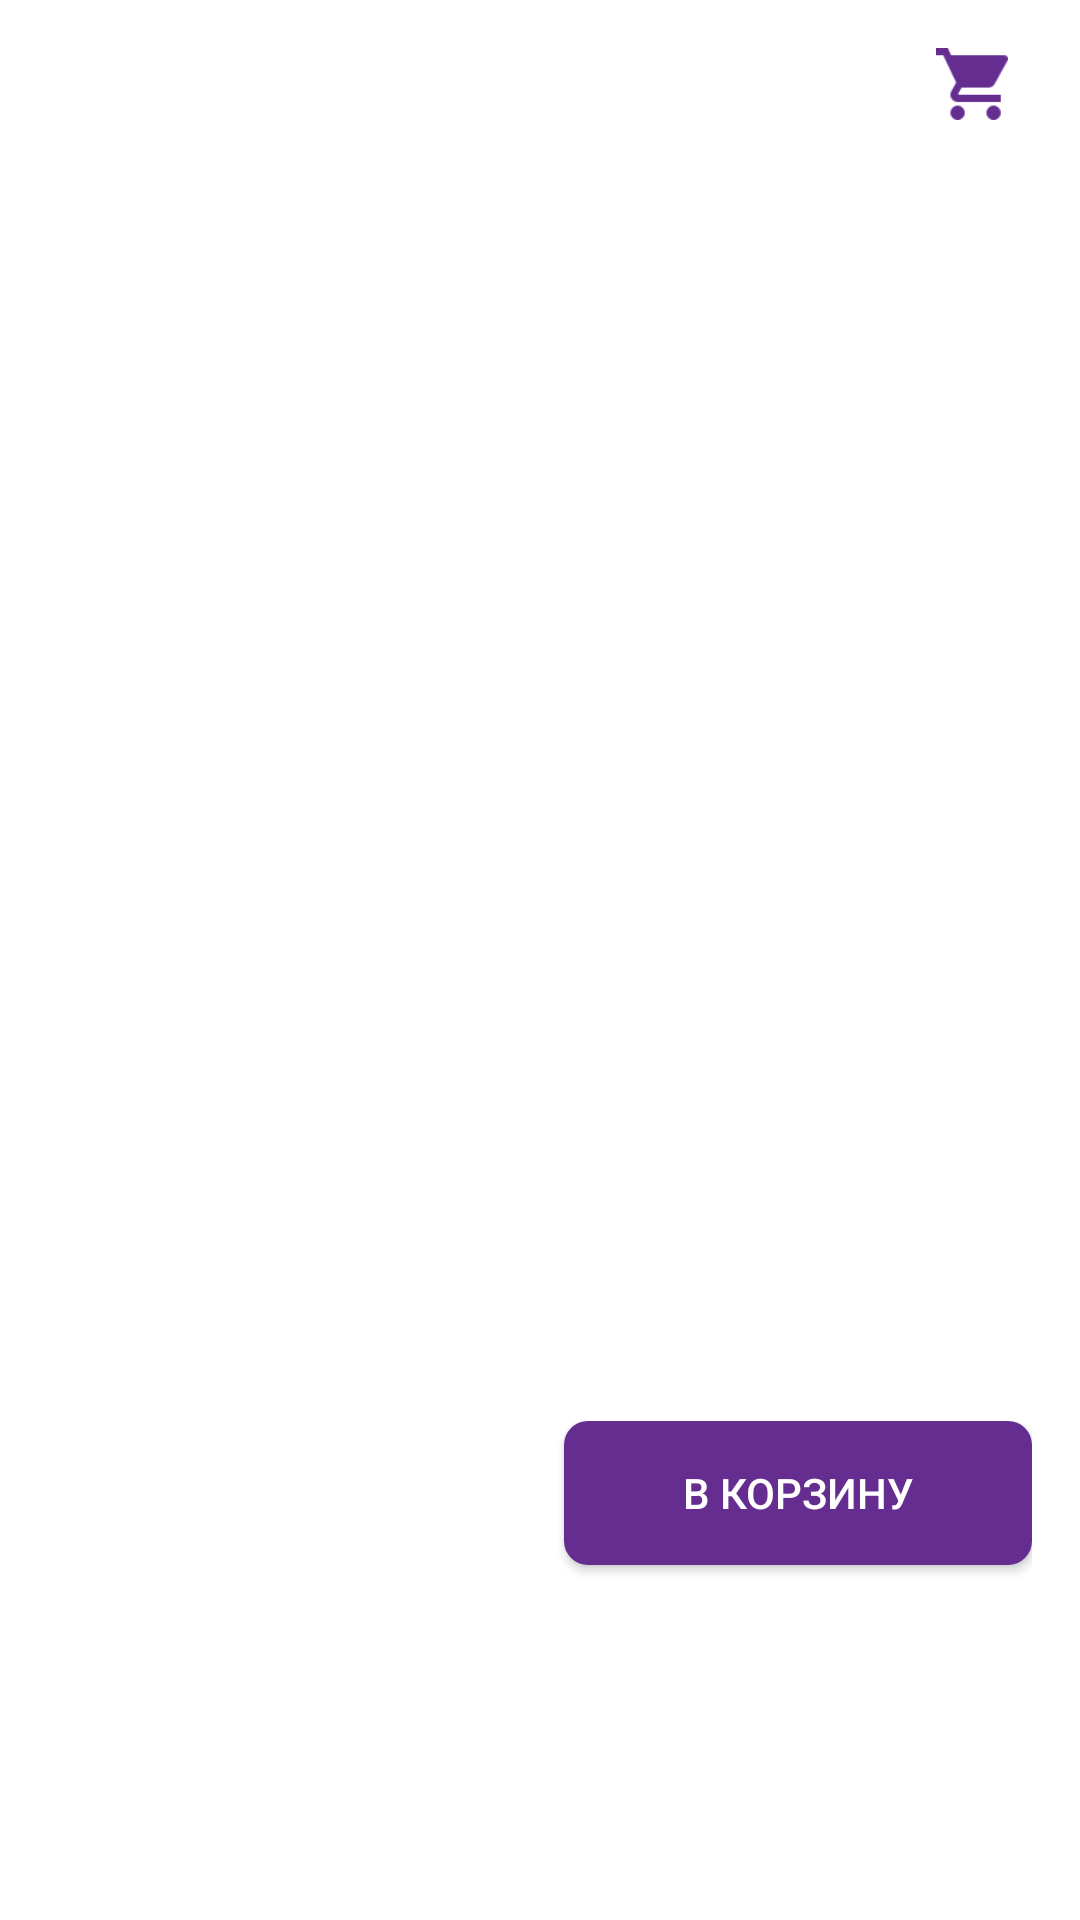

Point at icon controls on the screen. Image size 1080*1920, points as point (x, y).
cart: point (972, 84)
